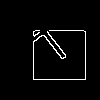L: (25, 25, 75, 79)
